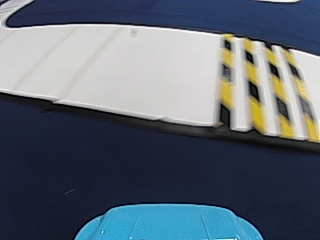bump: (213, 37, 312, 133)
